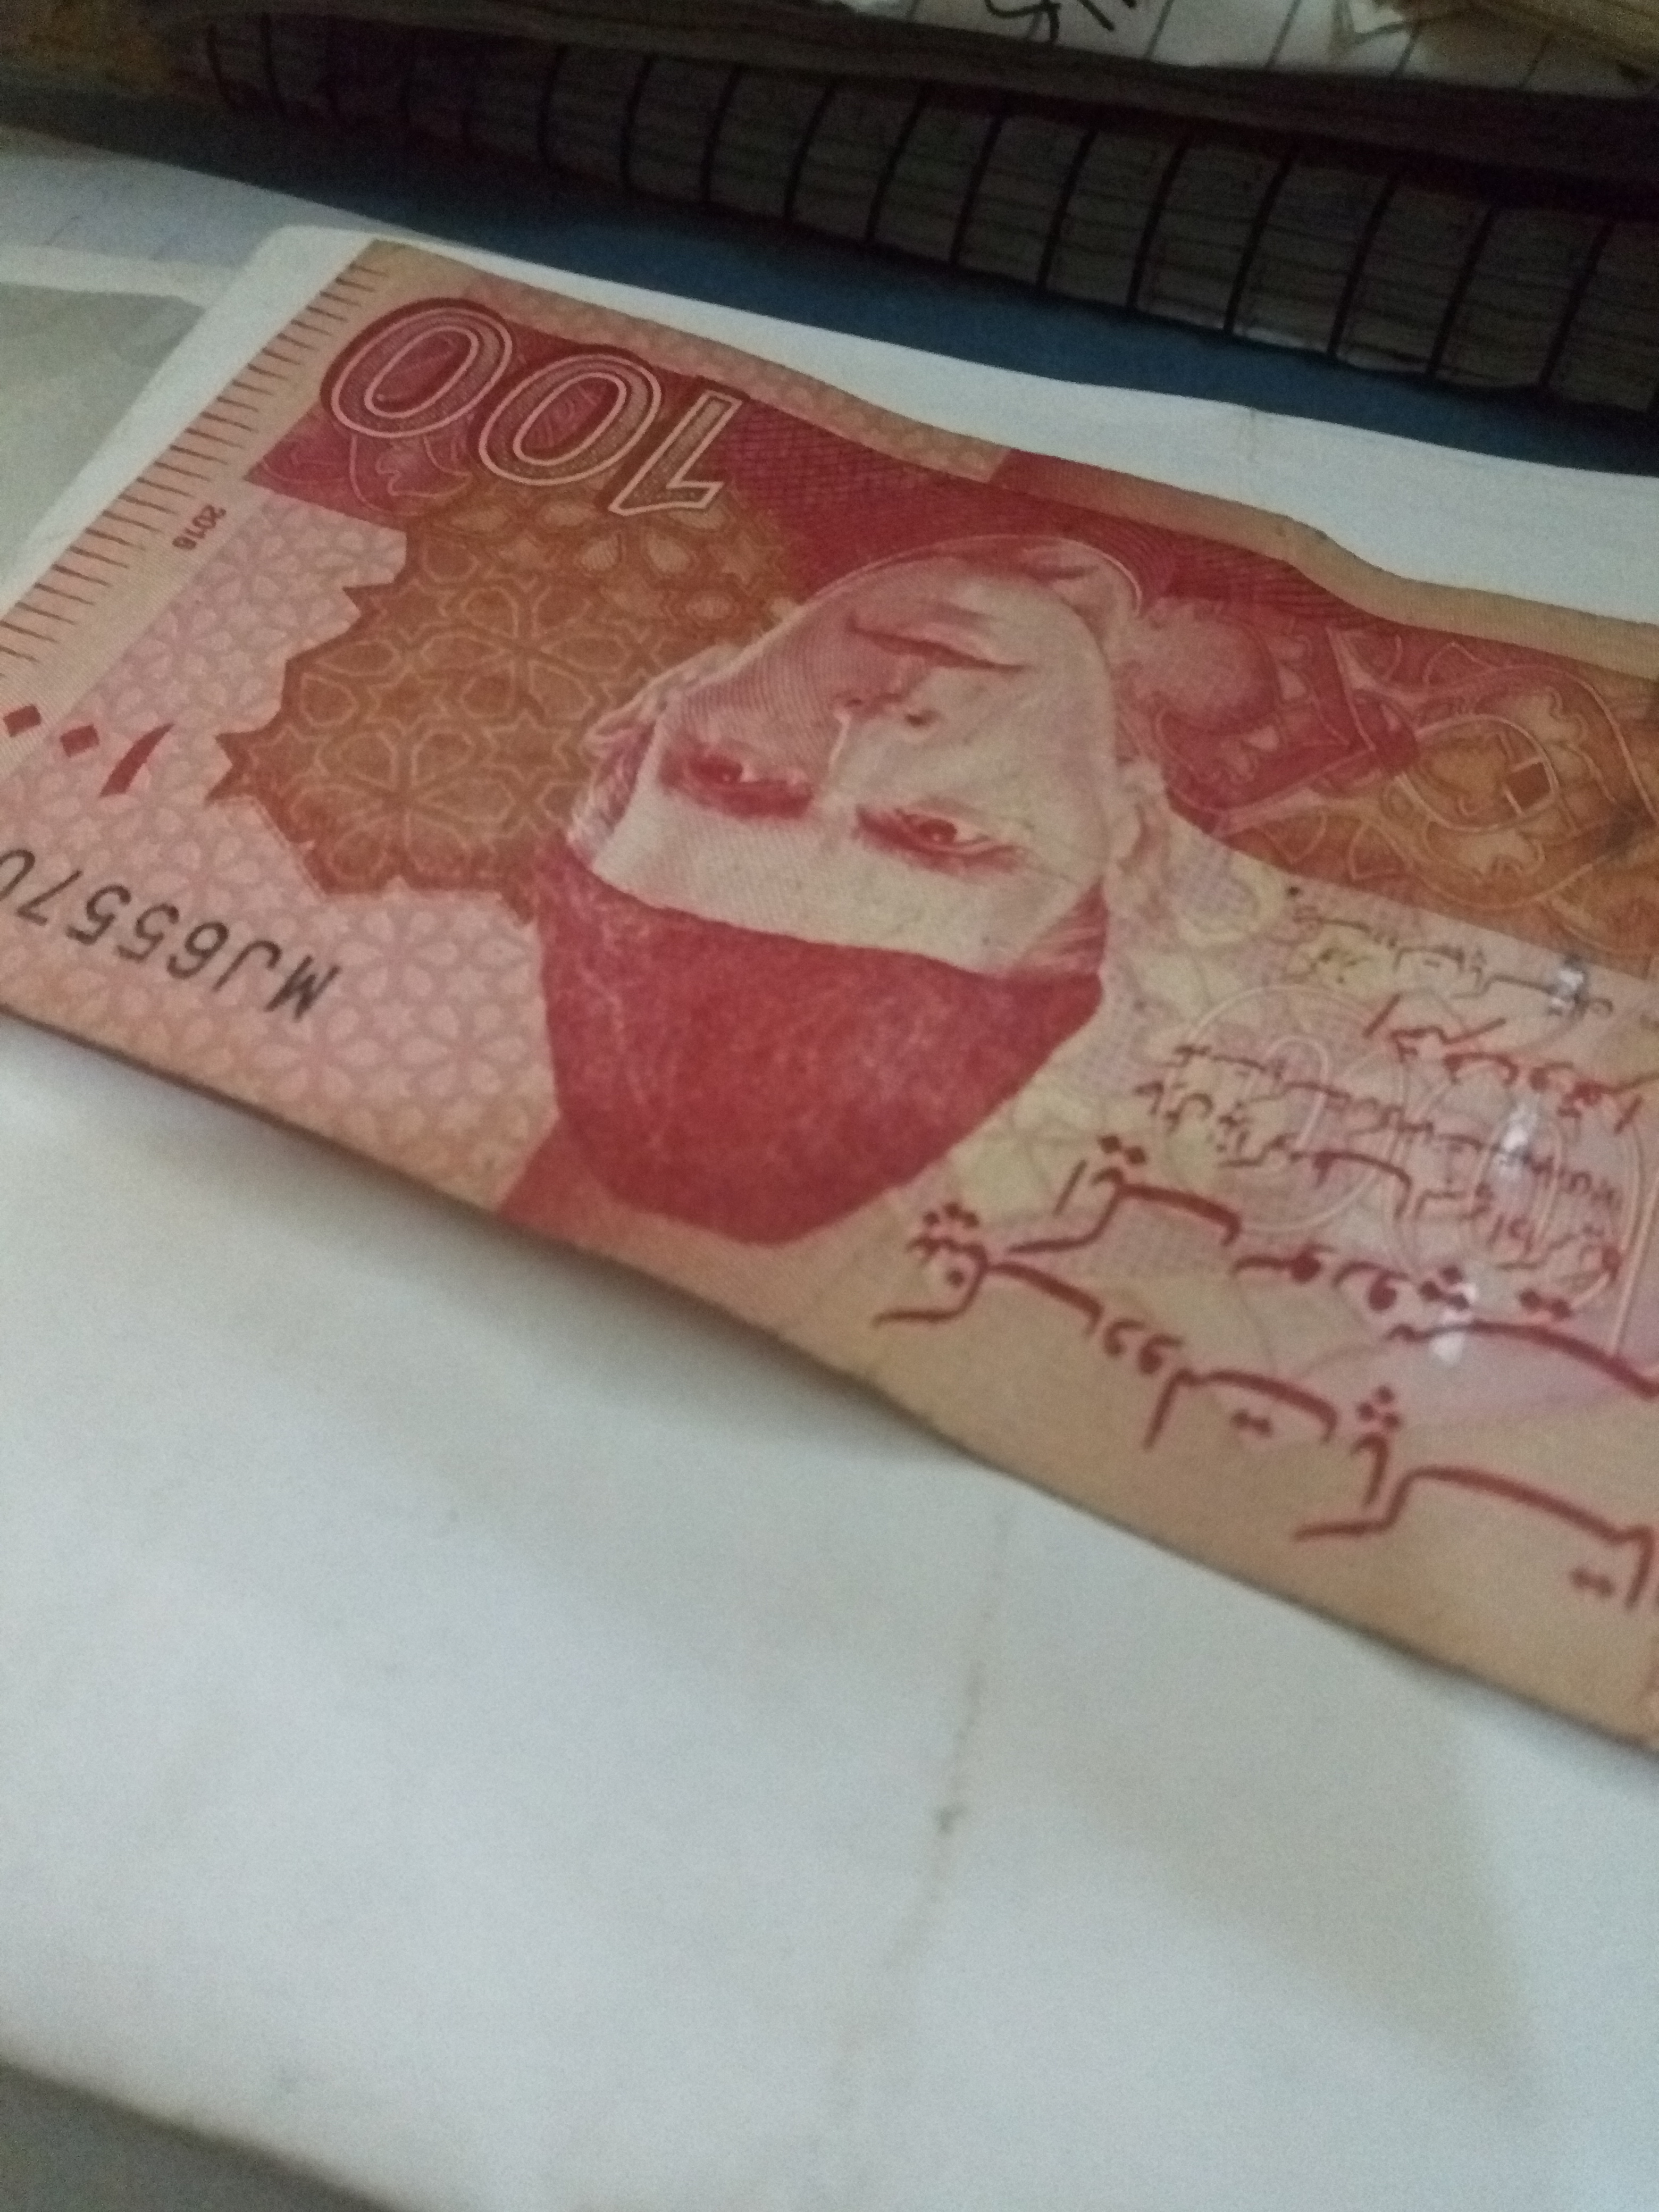100 rupee: (16, 207, 1649, 1747)
